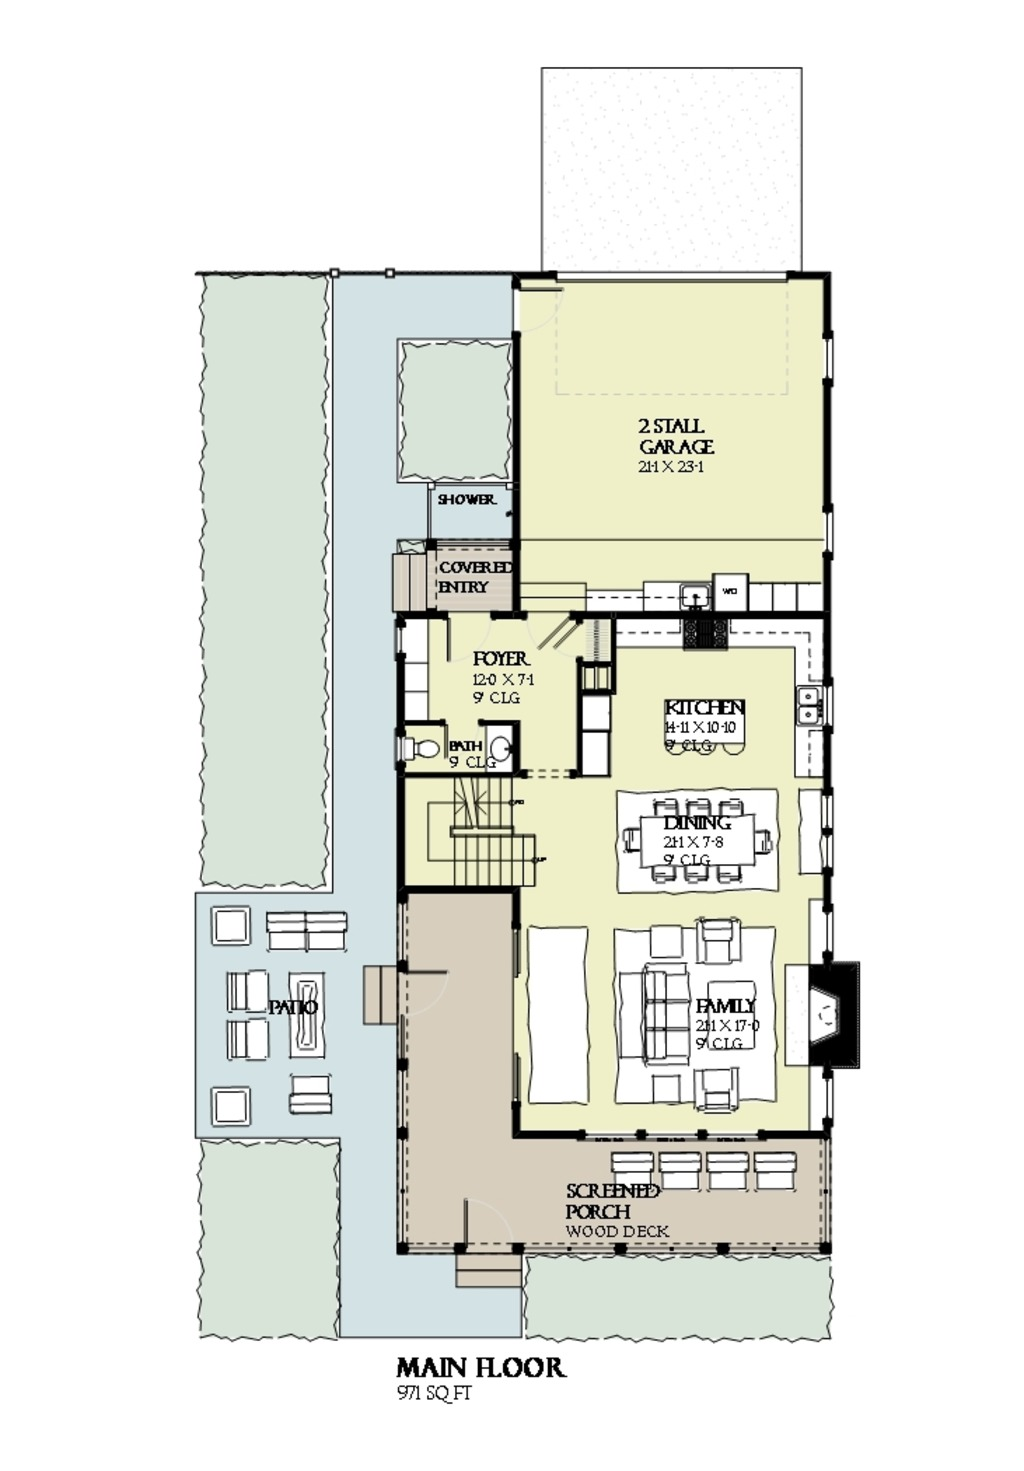dining_table: (623, 796, 783, 885)
large_sink: (395, 728, 442, 763)
large_sofa: (634, 964, 686, 1067)
small_sofa: (692, 911, 748, 971), (692, 1067, 745, 1121)
stairs: (398, 774, 544, 894)
windows: (406, 782, 559, 896), (819, 789, 837, 877), (821, 328, 844, 386), (819, 499, 841, 557)
